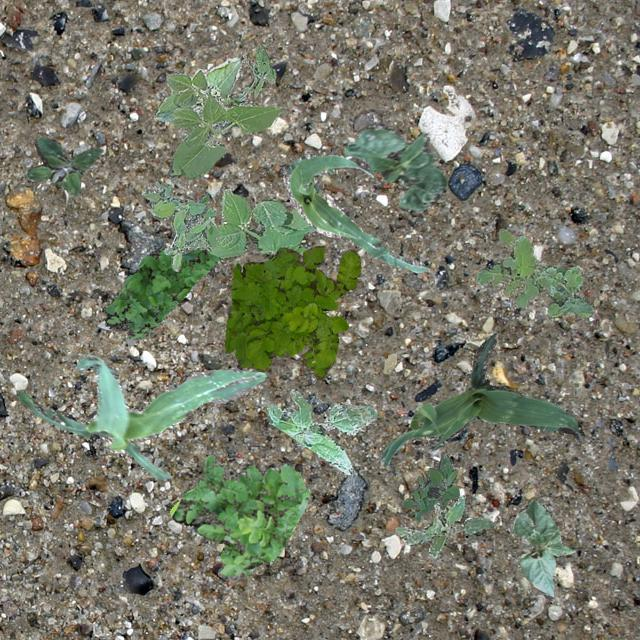crop: (18, 352, 266, 480), (378, 332, 584, 466), (282, 152, 428, 272), (154, 58, 282, 178), (342, 122, 446, 212), (512, 498, 574, 598)
weed: (223, 244, 359, 378), (168, 454, 310, 580), (474, 228, 592, 316), (104, 248, 218, 338), (264, 388, 378, 474), (198, 188, 316, 258), (140, 178, 218, 270), (394, 494, 494, 556), (26, 136, 101, 194), (401, 450, 458, 520), (222, 44, 274, 104)
